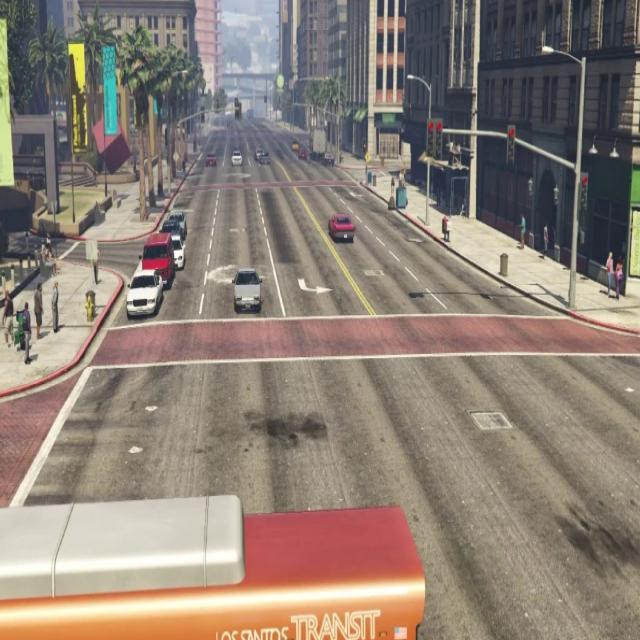Red-Signal: (424, 111, 446, 169), (504, 114, 519, 176), (578, 166, 592, 218)
